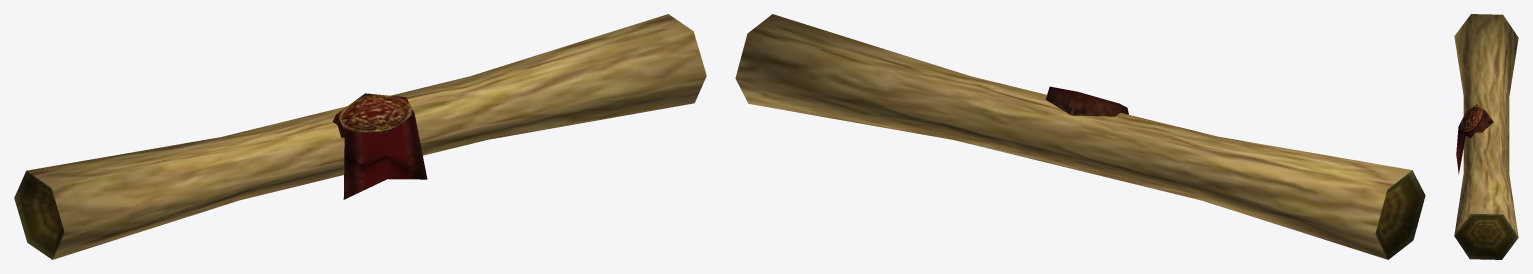
The model's file is NW_CITY_MAP_WAR_CLOSED_01.glb.
3 views of the same model, side by side, from view 1: azimuth 30°, elevation 25°; view 2: azimuth 150°, elevation 25°; view 3: azimuth 270°, elevation 25° (orthographic). The views are drawn at different scales.
Parts seen in each view (by area): view 1: Mesh; view 2: Mesh; view 3: Mesh.
Boxes of the visible parts, x1,y1,x2,y2 form: Mesh: (14, 14, 706, 259); Mesh: (735, 14, 1425, 259); Mesh: (1454, 14, 1518, 259).
Bounding box in the file's own units: 1.51 × 0.1825 × 0.205.
1 material, 1 textured.
